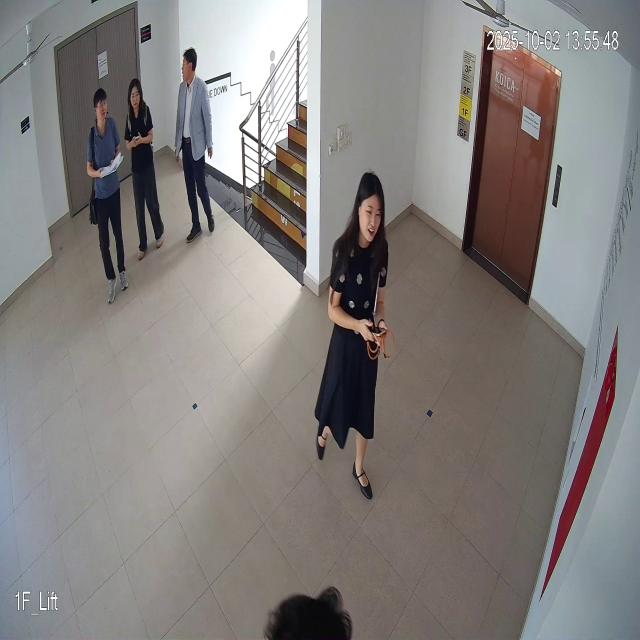face: (354, 165, 384, 247)
